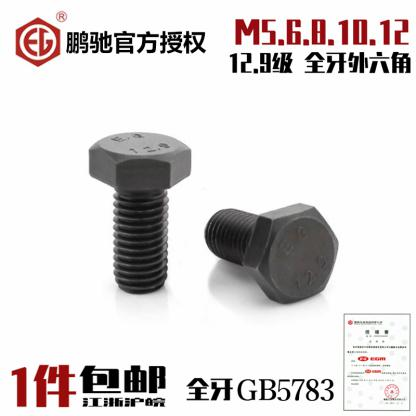FOD: (82, 128, 195, 295), (202, 204, 341, 307)
